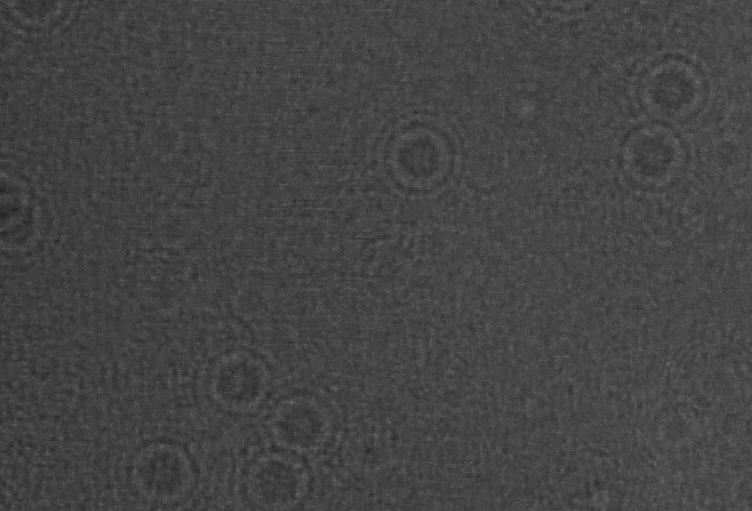bead: (182, 329, 286, 428), (365, 109, 474, 198), (109, 420, 208, 511), (614, 49, 720, 131), (603, 120, 702, 200), (257, 386, 357, 464), (226, 435, 321, 511), (0, 193, 80, 276), (0, 147, 51, 236), (0, 0, 80, 49), (512, 0, 618, 25)
